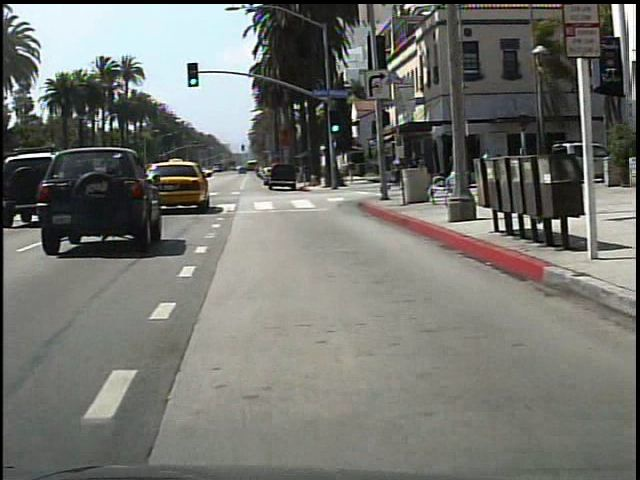person: (480, 147, 499, 190), (383, 150, 399, 195)
